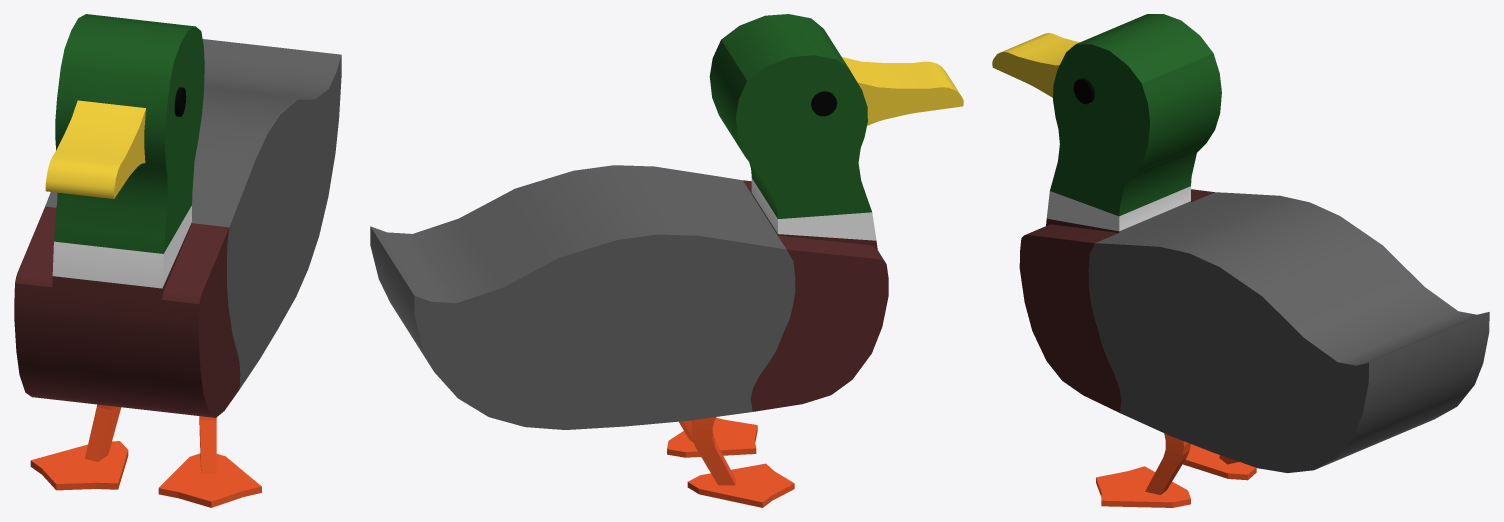
Rendered from duck.glb.
The picture shows the model from 3 angles, left to right: view 1: azimuth 30°, elevation 25°; view 2: azimuth 150°, elevation 25°; view 3: azimuth 270°, elevation 25°; orthographic projection. The views are drawn at different scales.
Parts seen in each view (by area): view 1: Cube.118; view 2: Cube.118; view 3: Cube.118.
Boxes of the visible parts, x1=… form: Cube.118: x1=14, y1=14, x2=341, y2=507; Cube.118: x1=370, y1=14, x2=963, y2=507; Cube.118: x1=992, y1=14, x2=1489, y2=507.
Bounding box in the file's own units: 1.96 × 1.85 × 1.96.
1 material, 1 textured.
